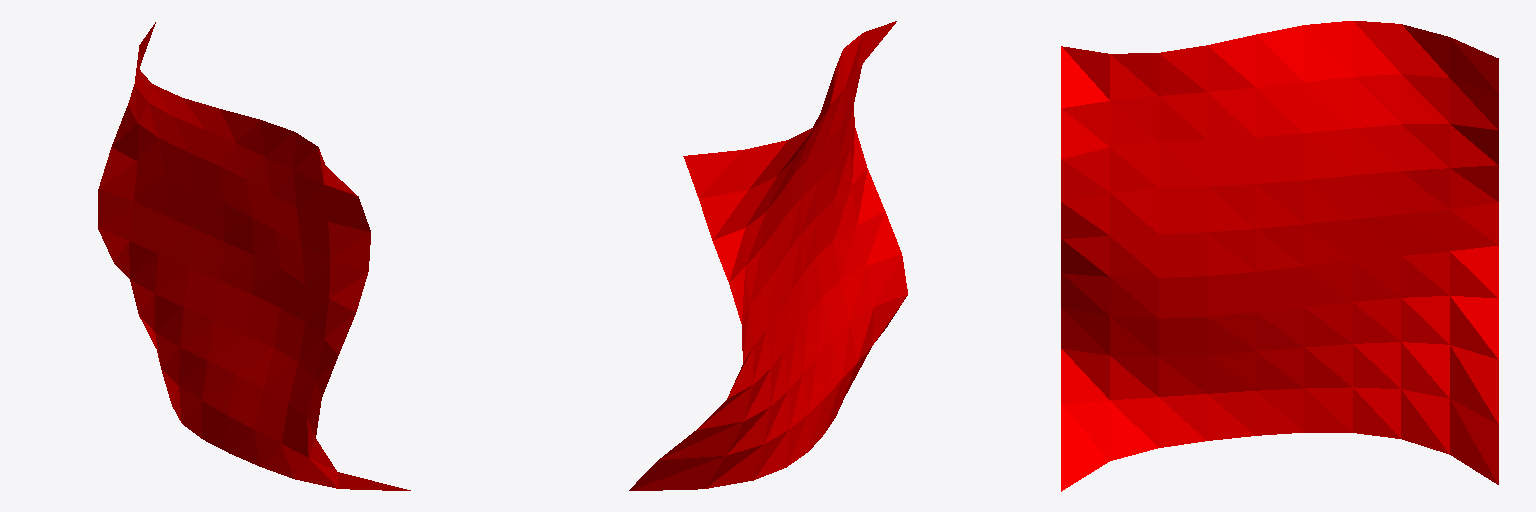
The robot description file, URDF, robot "test_robot":
<robot name="test_robot">
  <link name="base_link"/>

  <joint name="body_joint" type="fixed">
    <parent link="base_link"/>
    <child  link="body_link"/>
  </joint>
  <link name="body_link">
    <visual>
      <geometry>
        <mesh filename="package://vis_lecture/stl/YYYY.stl" />
      </geometry>
      <origin xyz="0 0 0" rpy="0 0 0"/>
        <material name="red">
        <color rgba="1.0 0.0 0.0 2.0"/>
      </material>
    </visual>
  </link>
</robot>

--- What the picture shows (computed from the rendered views, not written in the file) ---
The picture shows the robot from 3 angles, left to right: view 1: azimuth 30°, elevation 25°; view 2: azimuth 150°, elevation 25°; view 3: azimuth 270°, elevation 25°; orthographic projection.
Model test_robot with 2 links and 1 joints (1 fixed), rooted at base_link, posed all joints at 0.
Visible links, largest first — view 1: body_link; view 2: body_link; view 3: body_link.
Link boxes in pixels (x1,y1,x2,y2): body_link: [98, 22, 410, 490]; body_link: [629, 21, 907, 490]; body_link: [1061, 21, 1498, 491].
Size in the robot's own frame: 0.0202 by 0.0498 by 0.0498 metres.
Meshes: 1 distinct files referenced, 1 mesh visuals loaded (1 binary STL).